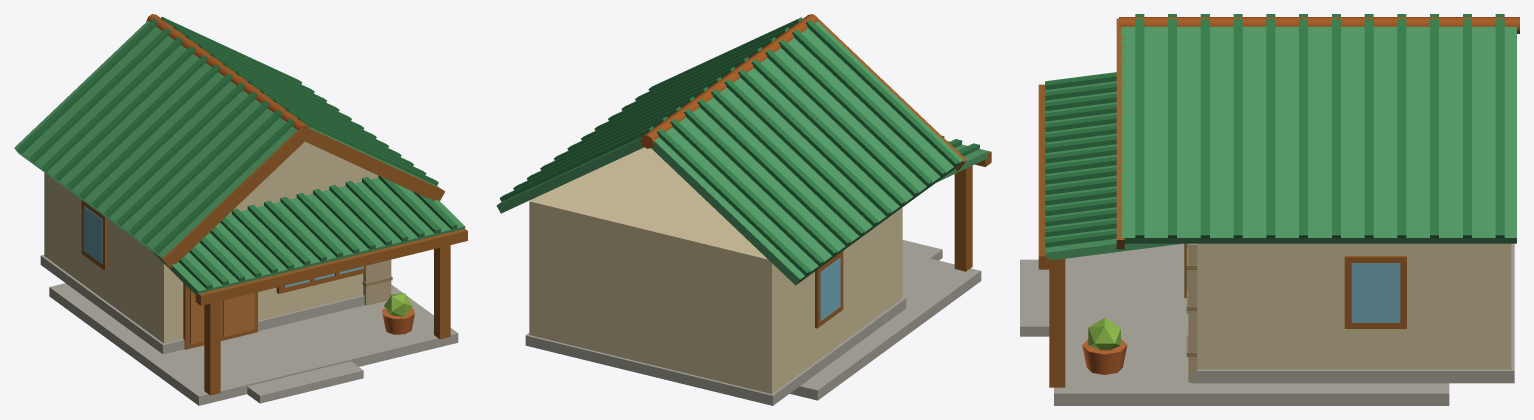
Rendered from house_green.glb.
The picture shows the model from 3 angles, left to right: view 1: azimuth 30°, elevation 25°; view 2: azimuth 150°, elevation 25°; view 3: azimuth 270°, elevation 25°; orthographic projection. The views are drawn at different scales.
Visible parts, largest first — view 1: house_mesh; view 2: house_mesh; view 3: house_mesh.
Part boxes in pixels (x1,y1,x2,y2): house_mesh: (14,14,467,405); house_mesh: (496,14,991,405); house_mesh: (1020,14,1519,405).
Size of the model in its own units: 3.81 by 2.99 by 4.43.
